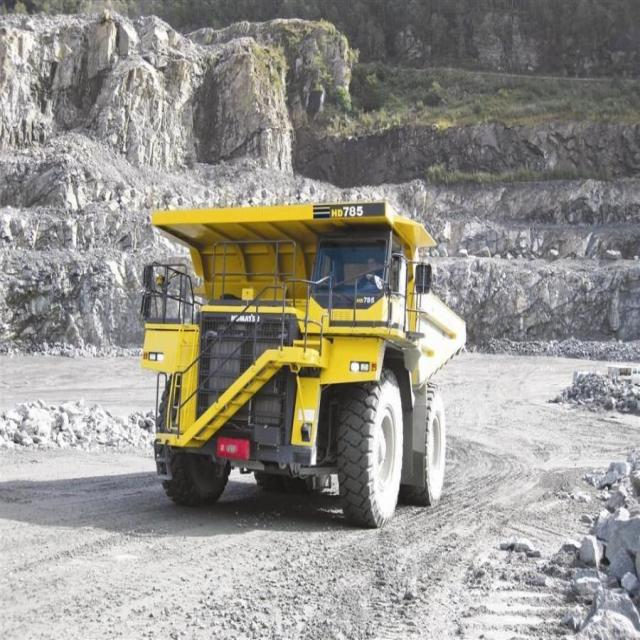dump_truck: (144, 202, 474, 527)
